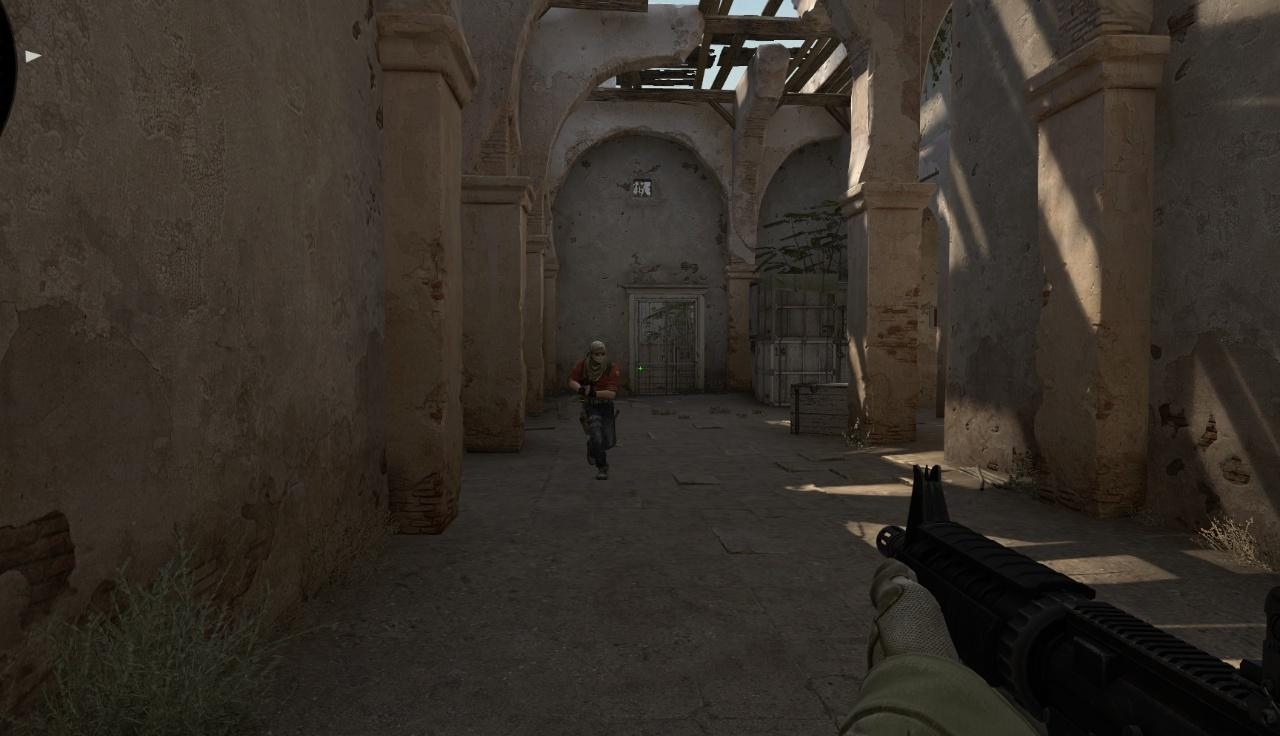rifle: (878, 463, 1280, 736)
tt: (567, 341, 619, 481)
tthead: (589, 342, 607, 365)
